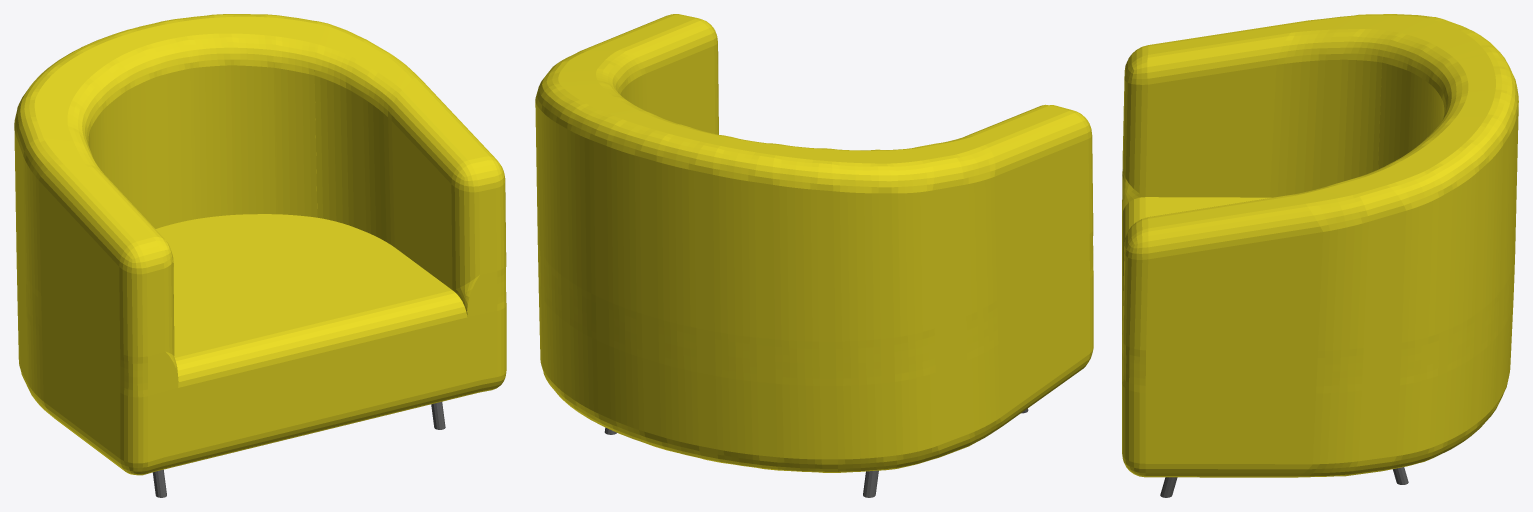
Rendered from Single Curved Chair.fbx.
3 views of the same model, side by side, from view 1: azimuth 30°, elevation 25°; view 2: azimuth 150°, elevation 25°; view 3: azimuth 270°, elevation 25° (orthographic). The views are drawn at different scales.
Parts seen in each view (by area): view 1: Chair; view 2: Chair; view 3: Chair.
Part boxes in pixels (x1,y1,x2,y2): Chair: (14,14,506,497); Chair: (535,14,1093,497); Chair: (1122,14,1518,497).
Size of the model in its own units: 104 by 83.08 by 87.49.
